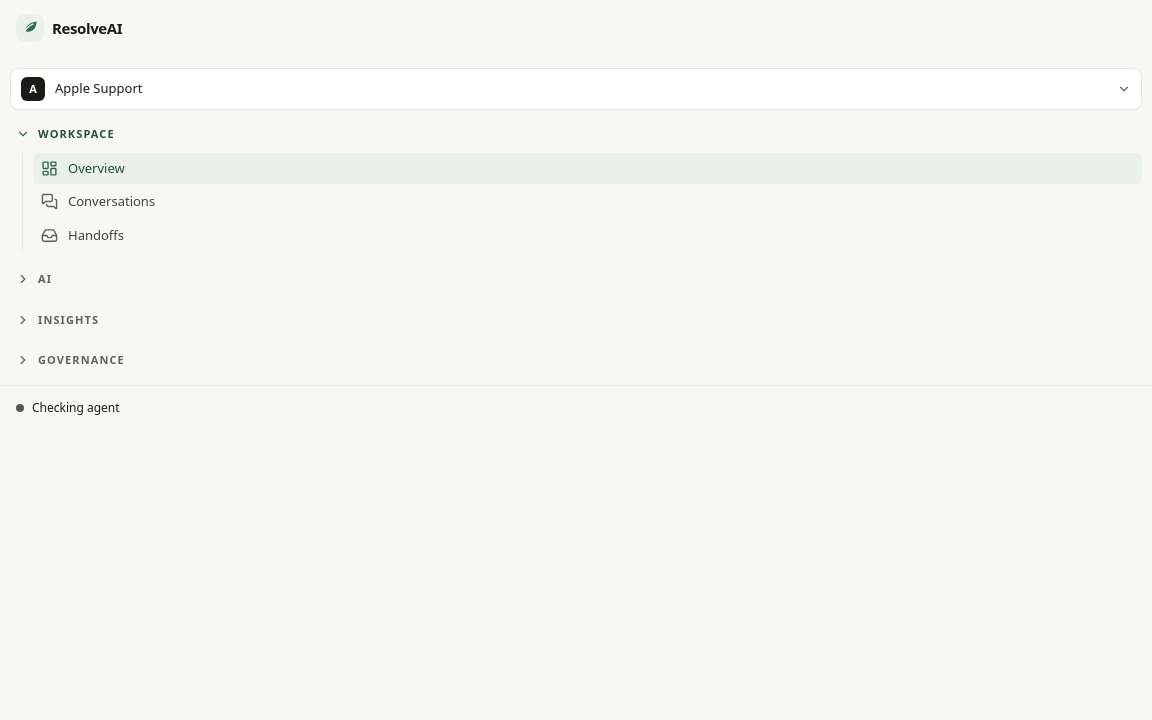
Test: Sidebar collapsible navigation › allows multiple groups to be expanded simultaneously (independent toggle)
Note: Click AI group - both Workspace and AI are now expanded!
Click the button "AI": (23, 279) [10,267,1142,292]
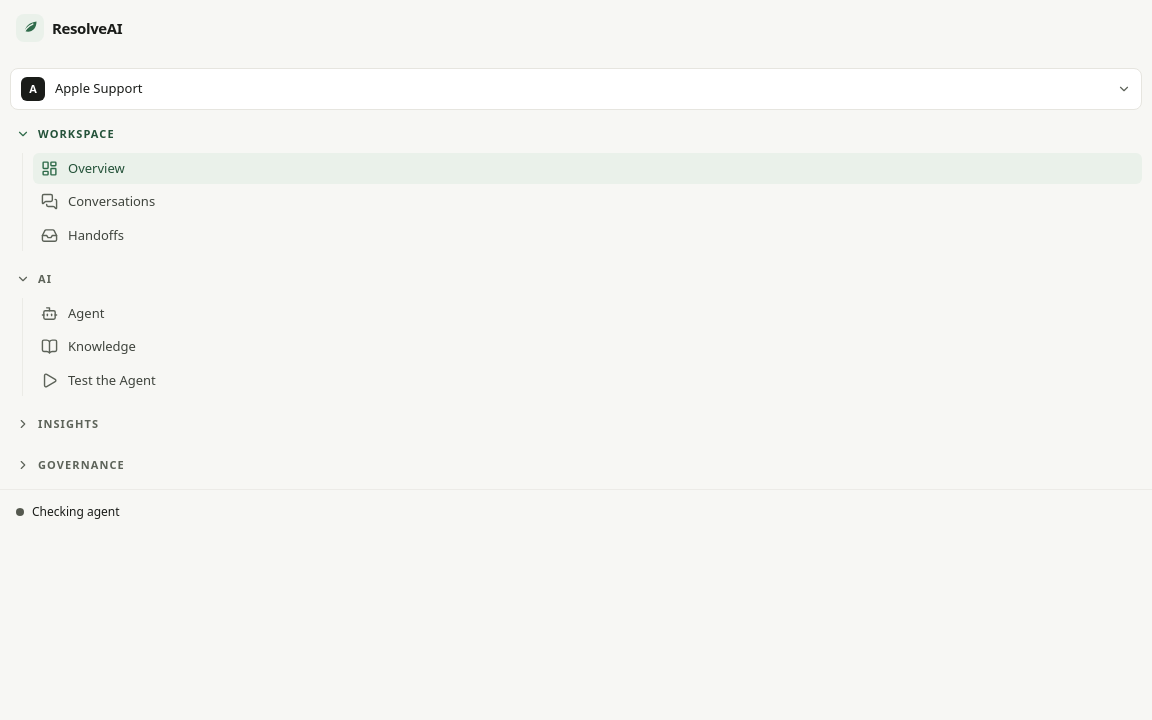
Expected: the link "Overview" is shown, [33,152,1142,184]
Expected: the button "AI" is expanded, [10,267,1142,292]
Expected: the link "Test the Agent" is shown, [41,370,156,389]
Note: Click Insights - Workspace, AI, and Insights are all expanded!
Click the button "Insights": (69, 424) [10,412,1142,436]
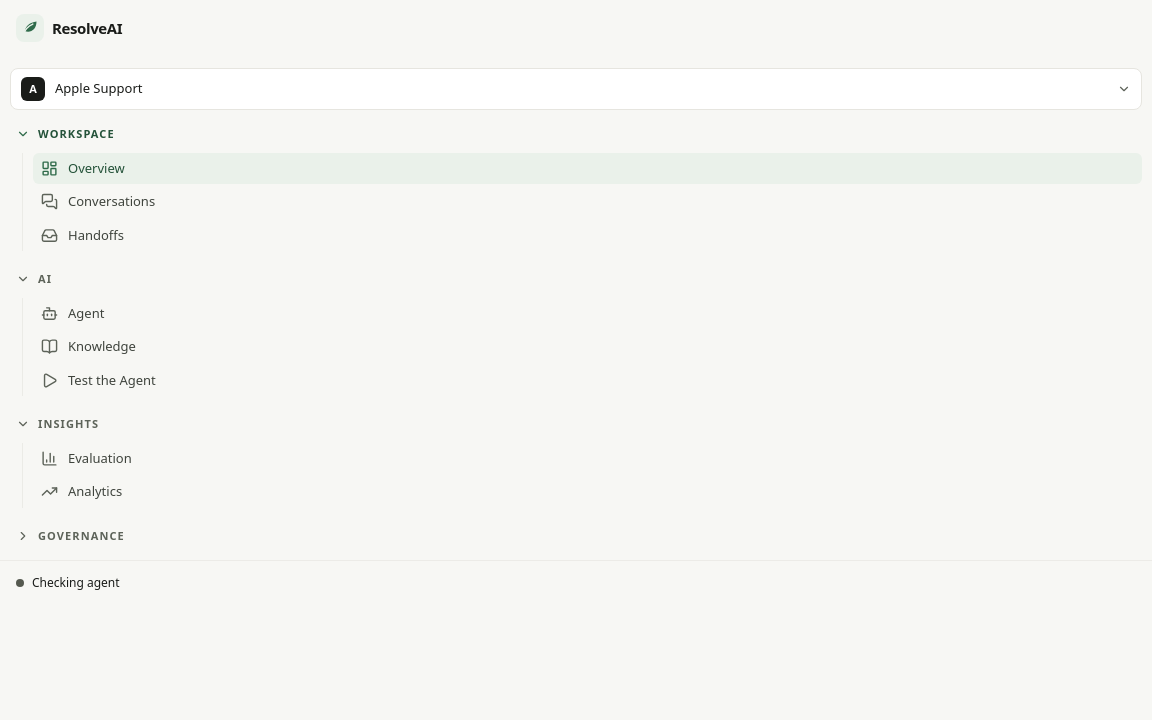
Expected: the button "Insights" is expanded, [10,412,1142,436]
Expected: the link "Evaluation" is shown, [41,448,132,467]
Note: Click Governance - all 4 groups are expanded!
Click the button "Governance": (81, 535) [10,524,1142,548]
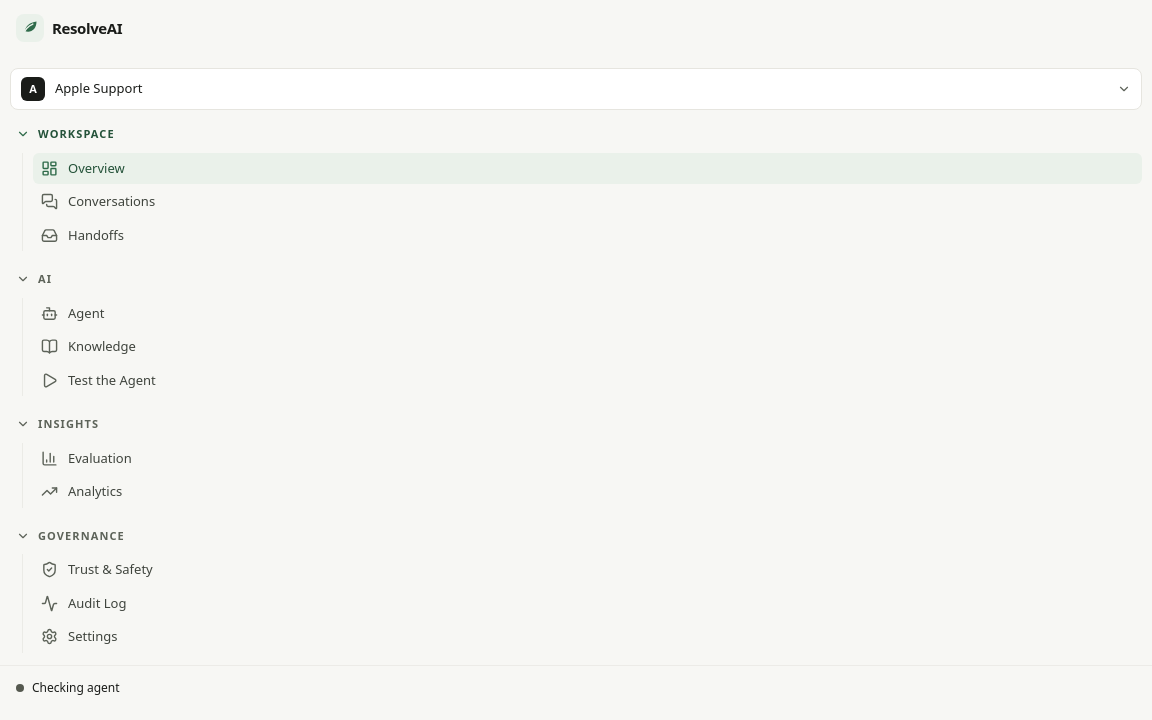
Expected: the button "Governance" is expanded, [10,524,1142,548]
Expected: the link "Trust & Safety" is shown, [41,560,153,578]
Note: Click AI to collapse it - other 3 remain expanded
Click the button "AI": (23, 279) [10,267,1142,292]
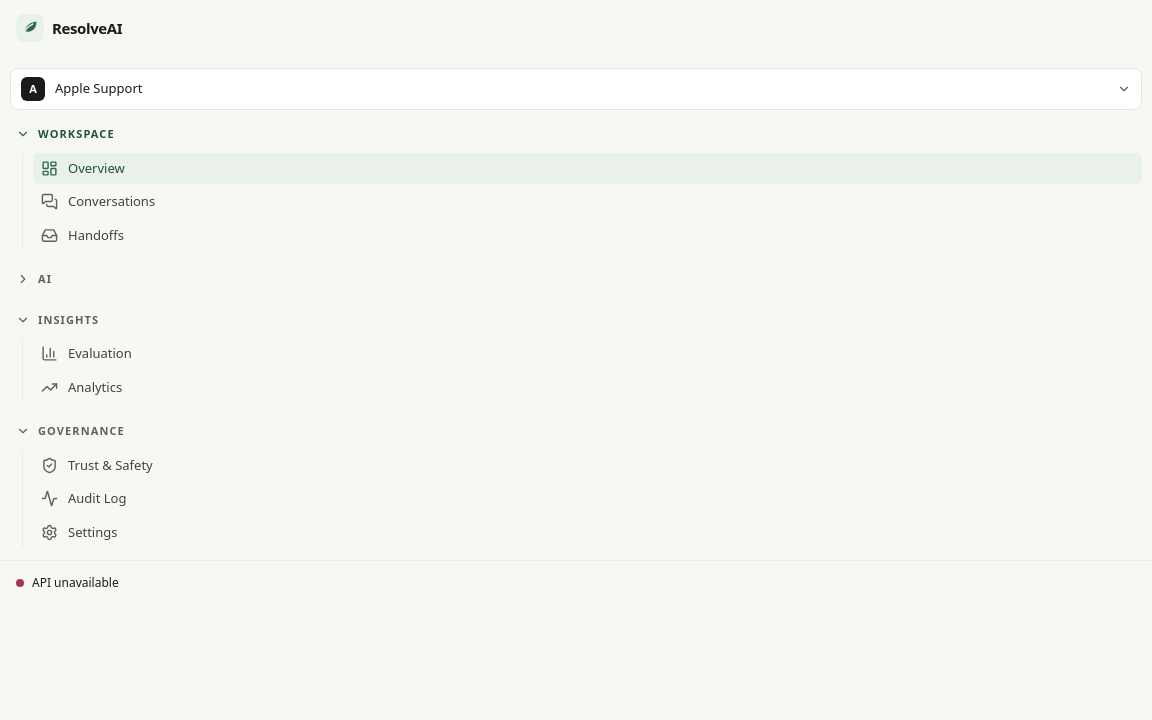
Expected: the button "Insights" is expanded, [10,308,1142,332]
Expected: the button "AI" is collapsed, [10,267,1142,292]
Expected: the link "Test the Agent" is gone
